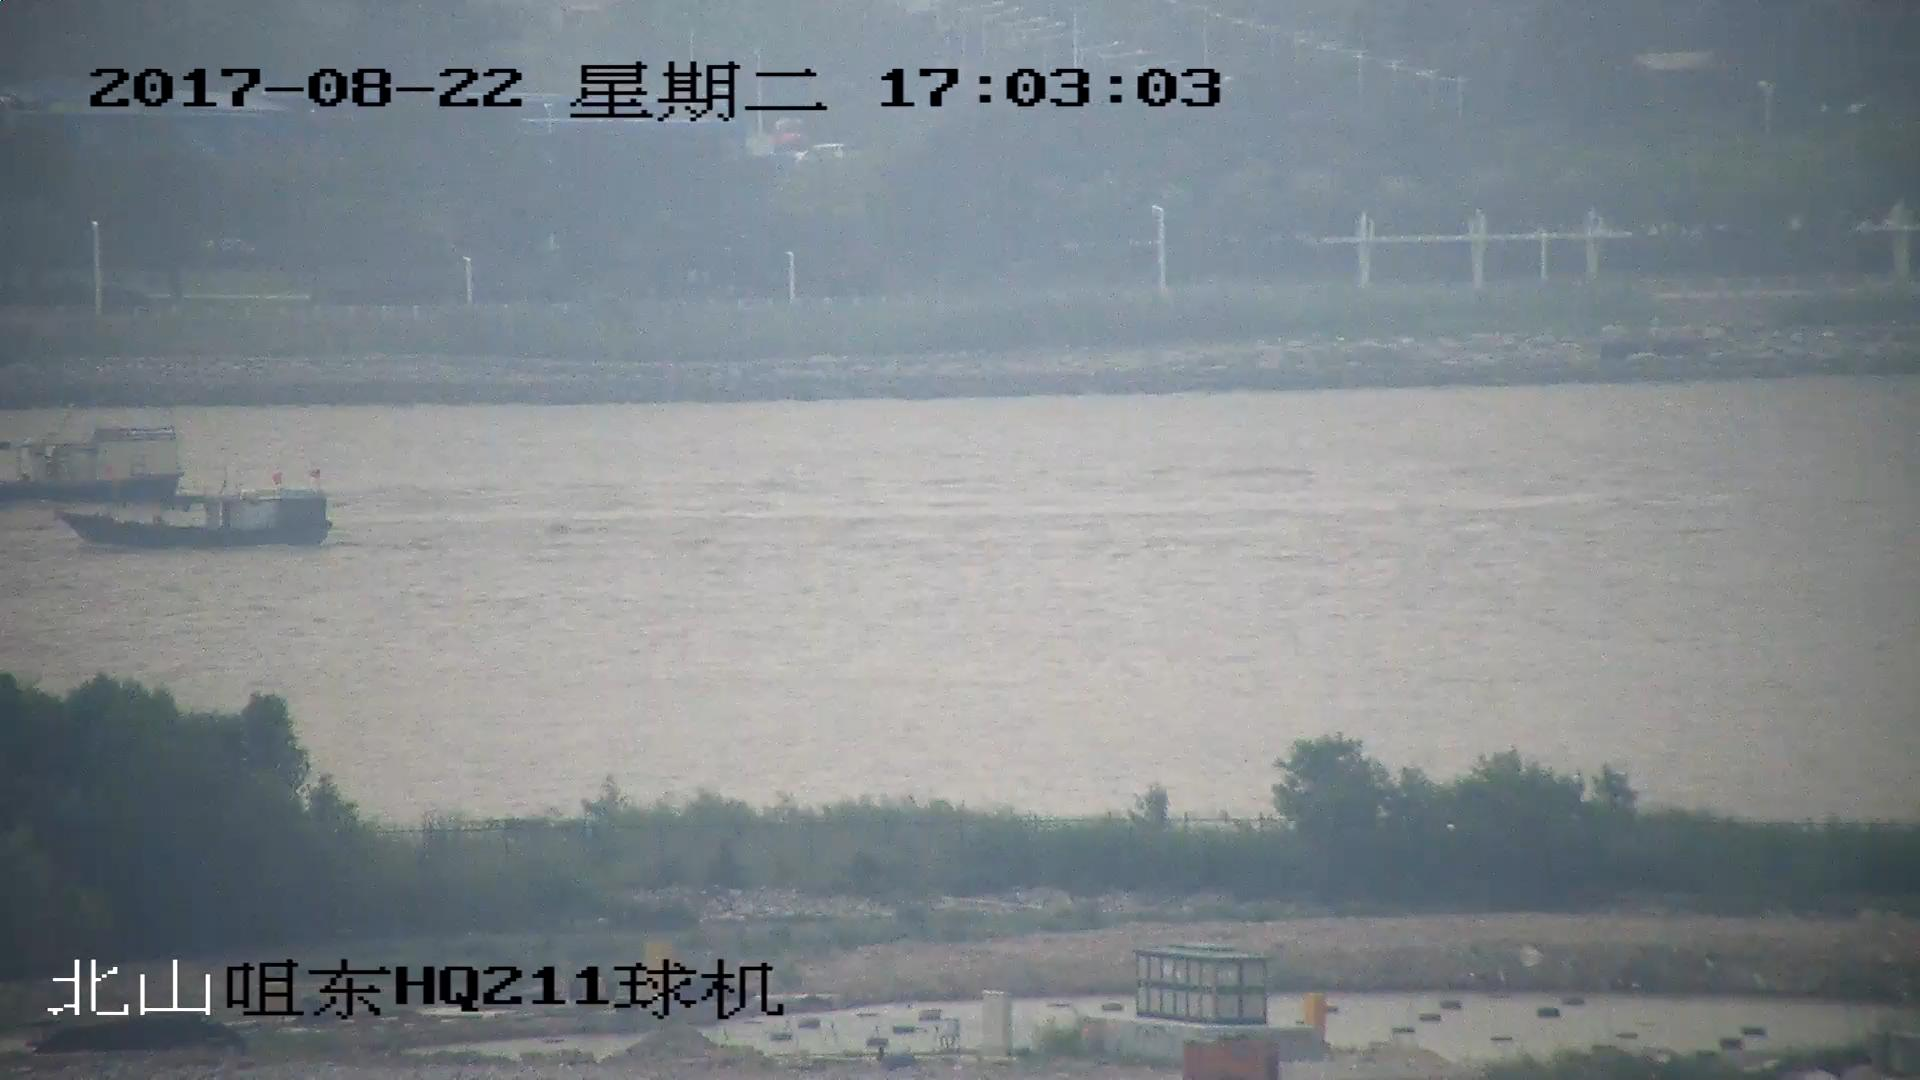fishing boat: (65, 476, 331, 548), (1, 426, 195, 510)
